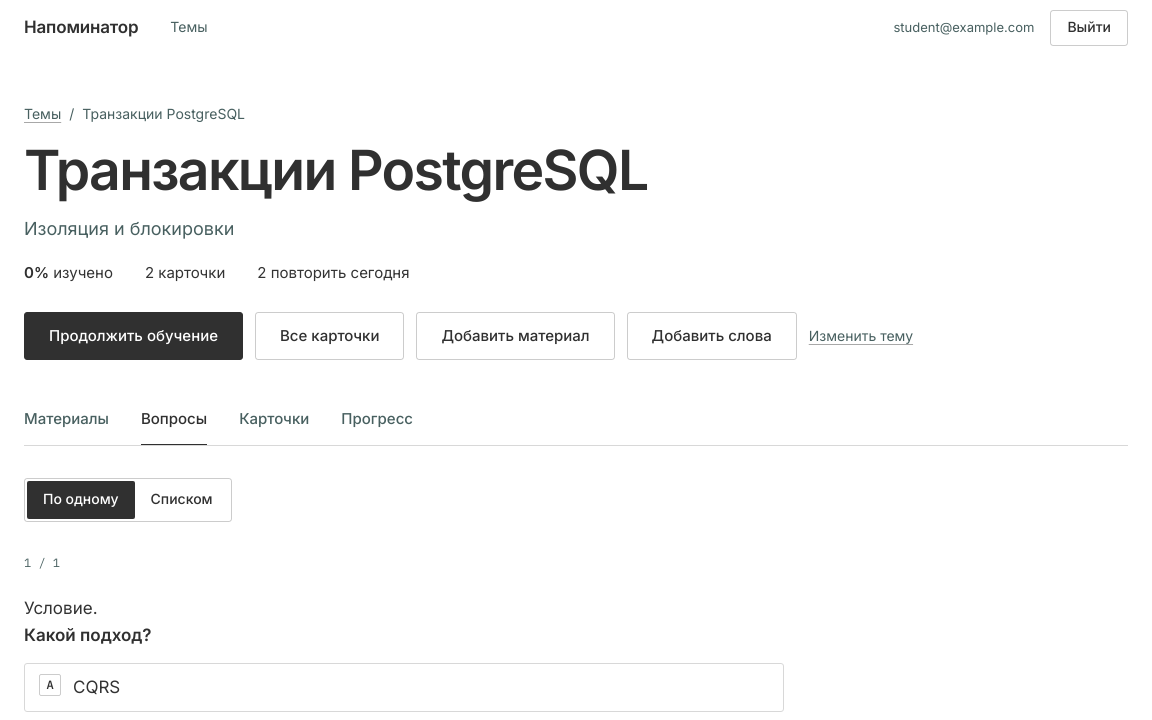
Экран вопросов › показывает вопрос-задачу с вариантами без сырой разметки — по одному и списком
Expected: the list item "CQRS" reads "A CQRS", [24,663,784,712]
Click the button "Списком" at (182, 500), box [134,481,228,519]
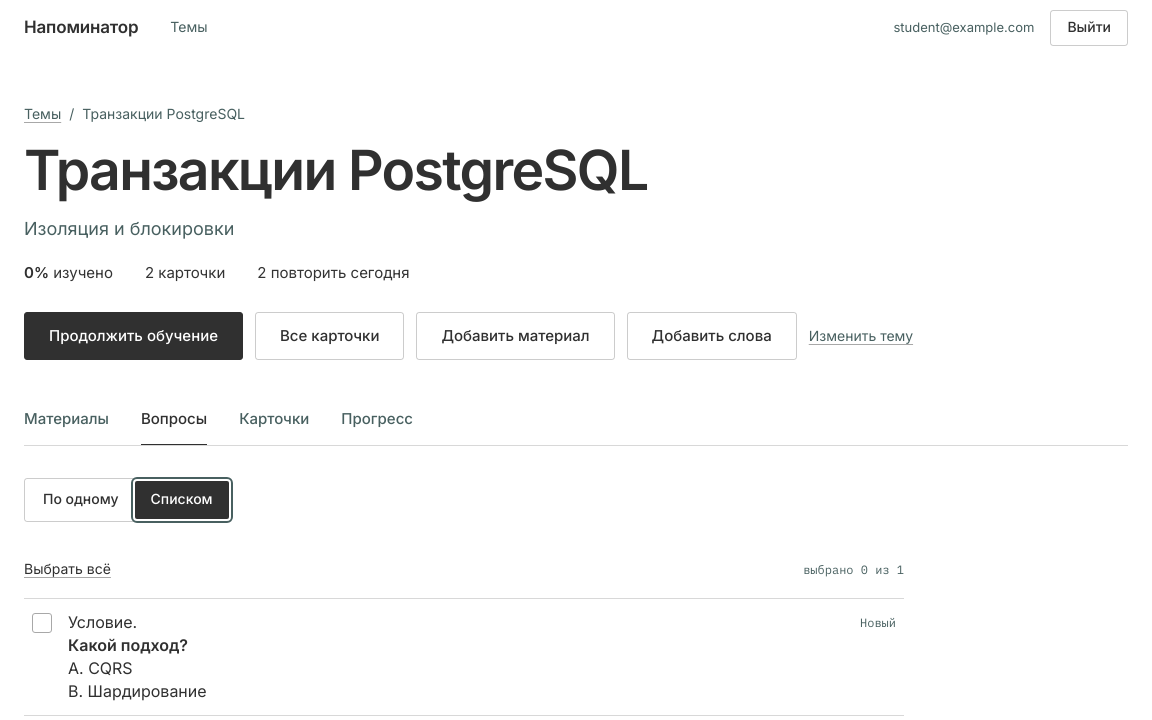
Expected: the checkbox does not show "**", [24,599,904,716]
Expected: the checkbox shows "Условие. Какой подход? A. CQRS B. Шардирование", [24,599,904,716]
